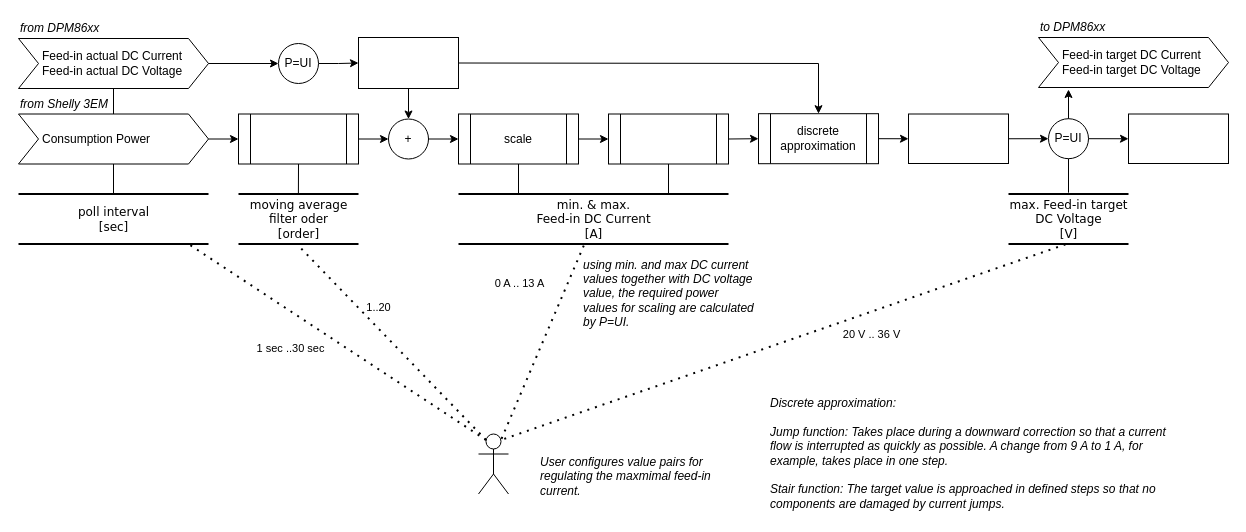
This 1246x532 diagram has some shape labels left out. The centre of each missing label's shape, as x and y in pixels:
"Actor" belongs at point (493, 463).
"Feed-in actual Power" belongs at point (408, 62).
"Feed-in target DC current" belongs at point (958, 138).
"Feed-in target Power" belongs at point (1178, 138).
"filter" belongs at point (298, 138).
"limit" belongs at point (668, 138).
